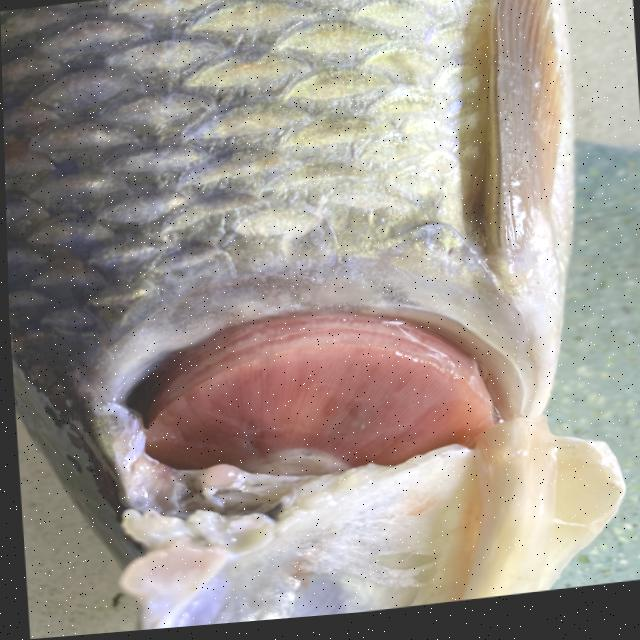Fresh: (92, 272, 523, 529)
